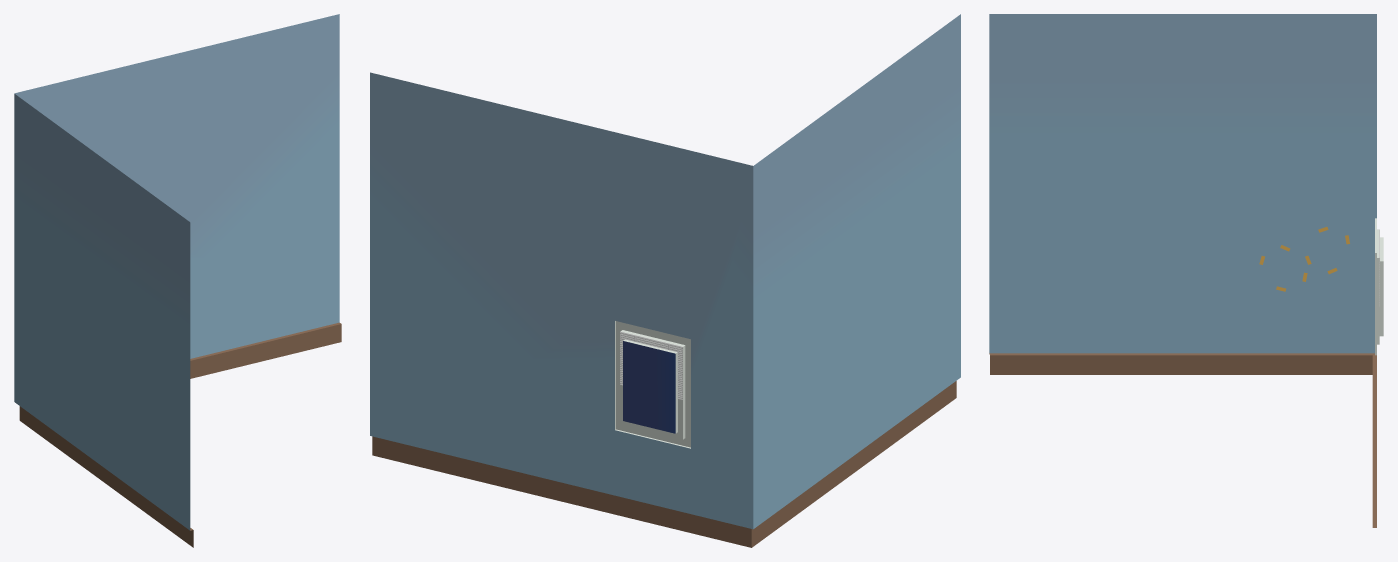
File: BeiJing1_Mo.fbx
The picture shows the model from 3 angles, left to right: view 1: azimuth 30°, elevation 25°; view 2: azimuth 150°, elevation 25°; view 3: azimuth 270°, elevation 25°; orthographic projection. The views are drawn at different scales.
Parts seen in each view (by area): view 1: Box041; view 2: Box041; view 3: Box041.
Boxes of the visible parts, x1,y1,x2,y2 form: Box041: [14, 14, 341, 547]; Box041: [370, 14, 960, 547]; Box041: [989, 14, 1383, 527].
Size of the model in its own units: 914 by 876 by 872.
